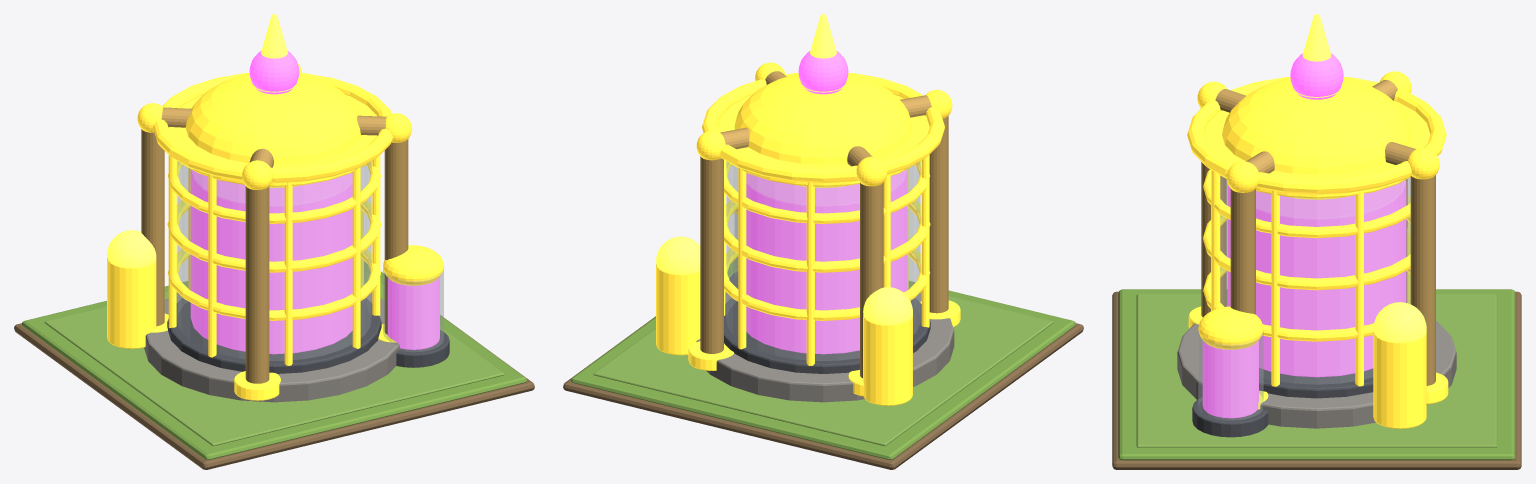
File: elixir_collector_lv6.glb
The picture shows the model from 3 angles, left to right: view 1: azimuth 30°, elevation 25°; view 2: azimuth 150°, elevation 25°; view 3: azimuth 270°, elevation 25°; orthographic projection. The views are drawn at different scales.
Parts seen in each view (by area): view 1: GlassCylinder, ElixirLiquid, Base_Inner, BrassDome, Base_Grass, WellBase, Base_Dirt, EC_CrownHalo, PipeDown_3, WellIronRing, AuxTankGlass, EC_BoosterTank_-1 (+21 smaller); view 2: GlassCylinder, Base_Inner, ElixirLiquid, BrassDome, Base_Grass, WellBase, Base_Dirt, EC_CrownHalo, PipeDown_1, EC_BoosterTank_-1, WellIronRing, EC_BoosterTank_1 (+17 smaller); view 3: Base_Inner, GlassCylinder, ElixirLiquid, BrassDome, Base_Grass, Base_Dirt, WellBase, EC_CrownHalo, AuxTankGlass, EC_BoosterTank_1, PipeDown_1, AuxTankElixir (+21 smaller).
Part boxes in pixels (x1=…): GlassCylinder: x1=177, y1=161, x2=371, y2=360; ElixirLiquid: x1=190, y1=169, x2=352, y2=354; Base_Inner: x1=44, y1=271, x2=504, y2=446; BrassDome: x1=185, y1=74, x2=360, y2=187; Base_Grass: x1=22, y1=261, x2=526, y2=459; WellBase: x1=144, y1=293, x2=399, y2=402; Base_Dirt: x1=14, y1=271, x2=534, y2=469; EC_CrownHalo: x1=153, y1=73, x2=392, y2=182; PipeDown_3: x1=245, y1=186, x2=269, y2=383; WellIronRing: x1=167, y1=298, x2=381, y2=373; AuxTankGlass: x1=383, y1=268, x2=443, y2=351; EC_BoosterTank_-1: x1=107, y1=258, x2=156, y2=348; GlassCylinder: x1=726, y1=161, x2=920, y2=360; Base_Inner: x1=593, y1=268, x2=1053, y2=446; ElixirLiquid: x1=746, y1=169, x2=907, y2=354; BrassDome: x1=734, y1=74, x2=912, y2=187; Base_Grass: x1=571, y1=257, x2=1075, y2=459; WellBase: x1=696, y1=293, x2=954, y2=402; Base_Dirt: x1=563, y1=316, x2=1083, y2=469; EC_CrownHalo: x1=702, y1=73, x2=944, y2=182; PipeDown_1: x1=700, y1=156, x2=723, y2=353; EC_BoosterTank_-1: x1=863, y1=315, x2=912, y2=405; WellIronRing: x1=724, y1=298, x2=930, y2=373; EC_BoosterTank_1: x1=656, y1=264, x2=700, y2=355; Base_Inner: x1=1136, y1=294, x2=1497, y2=447; GlassCylinder: x1=1220, y1=176, x2=1410, y2=384; ElixirLiquid: x1=1227, y1=180, x2=1406, y2=377; BrassDome: x1=1222, y1=78, x2=1411, y2=199; Base_Grass: x1=1118, y1=289, x2=1515, y2=460; Base_Dirt: x1=1112, y1=291, x2=1521, y2=469; WellBase: x1=1177, y1=321, x2=1456, y2=428; EC_CrownHalo: x1=1187, y1=77, x2=1446, y2=194; AuxTankGlass: x1=1198, y1=331, x2=1263, y2=420; EC_BoosterTank_1: x1=1373, y1=332, x2=1426, y2=428; PipeDown_1: x1=1410, y1=175, x2=1435, y2=385; AuxTankElixir: x1=1202, y1=340, x2=1258, y2=418.
Bounding box in the file's own units: 2.76 × 2.75 × 2.76.
